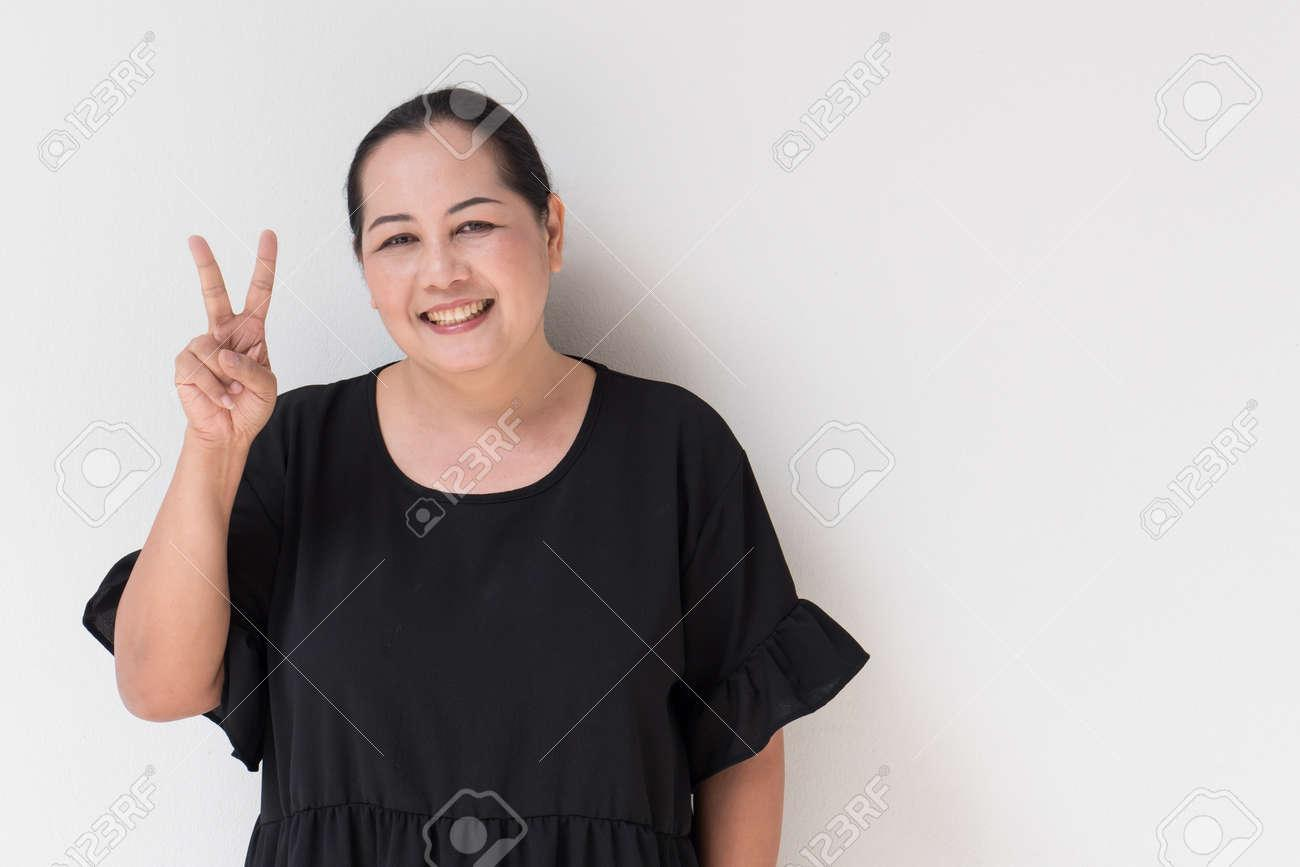peace_sign: (169, 222, 294, 447)
